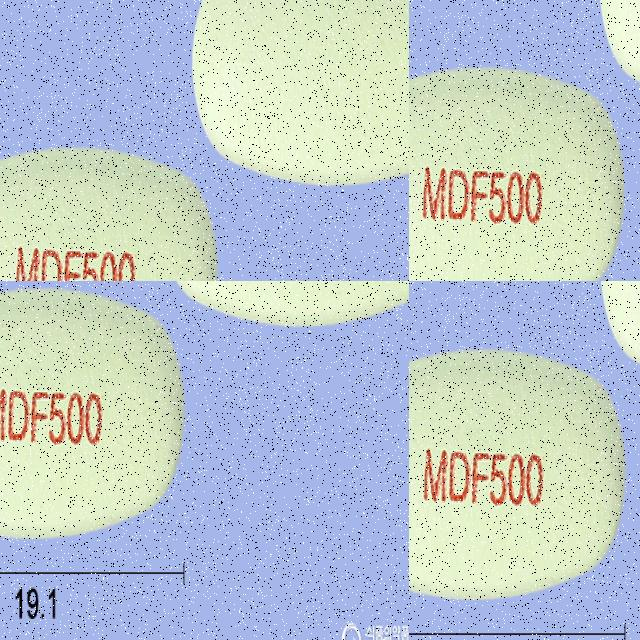Cefac Cap: (421, 190, 640, 281)
Celltrion Clarithromycin - 500mg: (195, 0, 409, 212), (0, 122, 211, 281)
Cipoxcin: (4, 299, 242, 640)
Clarid: (409, 338, 626, 607)
